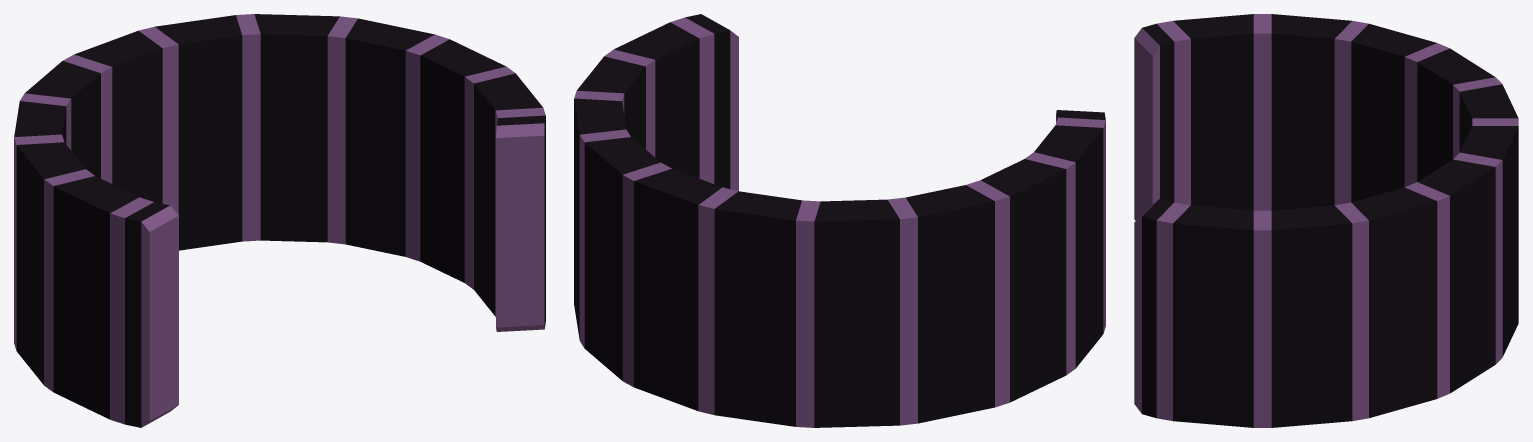
Rendered from cristalBaño.fbx.
3 renders of one model, left to right at view 1: azimuth 30°, elevation 25°; view 2: azimuth 150°, elevation 25°; view 3: azimuth 270°, elevation 25°, orthographic. The views are drawn at different scales.
Parts seen in each view (by area): view 1: walls.001; view 2: walls.001; view 3: walls.001.
Boxes of the visible parts, bbox=[...] form: walls.001: bbox=[14, 14, 545, 427]; walls.001: bbox=[574, 14, 1105, 427]; walls.001: bbox=[1134, 14, 1518, 427].
Bounding box in the file's own units: 913 × 389 × 685.
